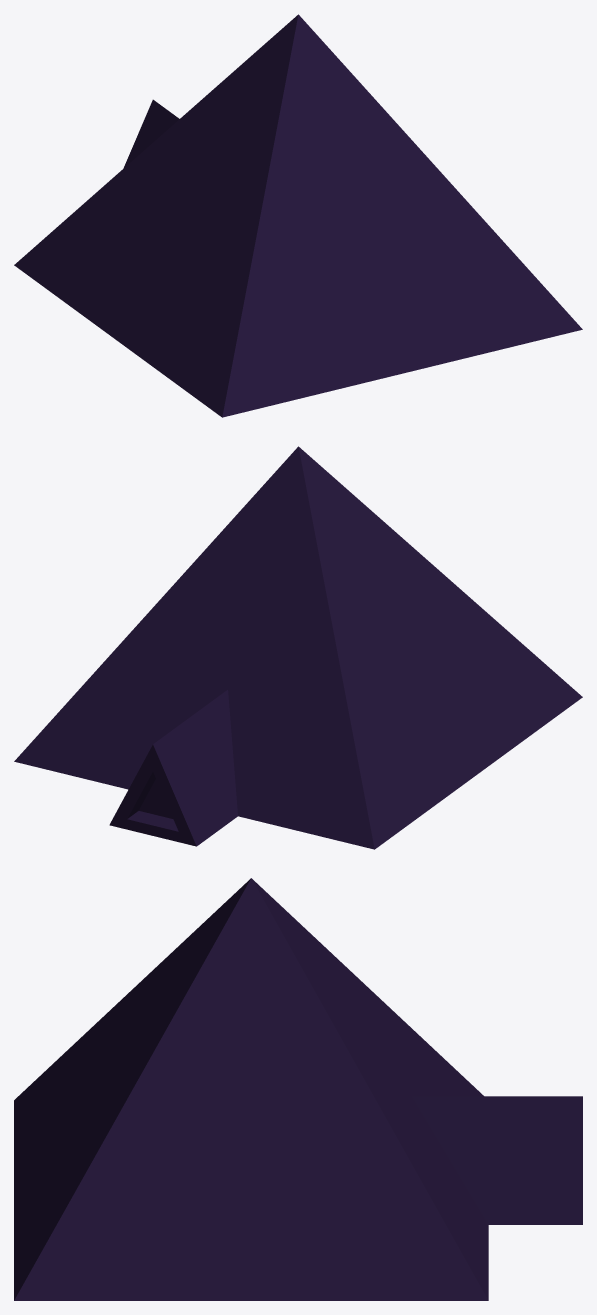
The picture shows the model from 3 angles, top to bottom: view 1: azimuth 30°, elevation 25°; view 2: azimuth 150°, elevation 25°; view 3: azimuth 270°, elevation 25°; orthographic projection. The views are drawn at different scales.
Parts seen in each view (by area): view 1: Pyramid; view 2: Pyramid; view 3: Pyramid.
Boxes of the visible parts, x1,y1,x2,y2 form: Pyramid: (14,14,582,417); Pyramid: (14,446,582,849); Pyramid: (14,878,582,1300).
Bounding box in the file's own units: 2000 × 1500 × 2397.
